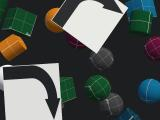Right: (52, 0, 128, 54), (2, 63, 62, 120)
